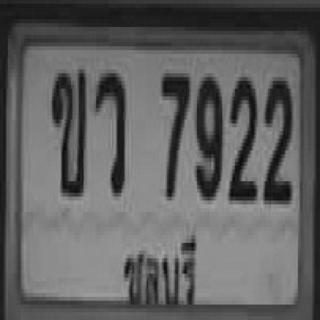A02: (50, 66, 85, 193)
A37: (94, 69, 124, 193)
N02: (262, 73, 290, 200), (227, 73, 255, 200)
N07: (160, 69, 188, 197)
N09: (194, 73, 221, 197)
P13: (121, 220, 200, 314)
